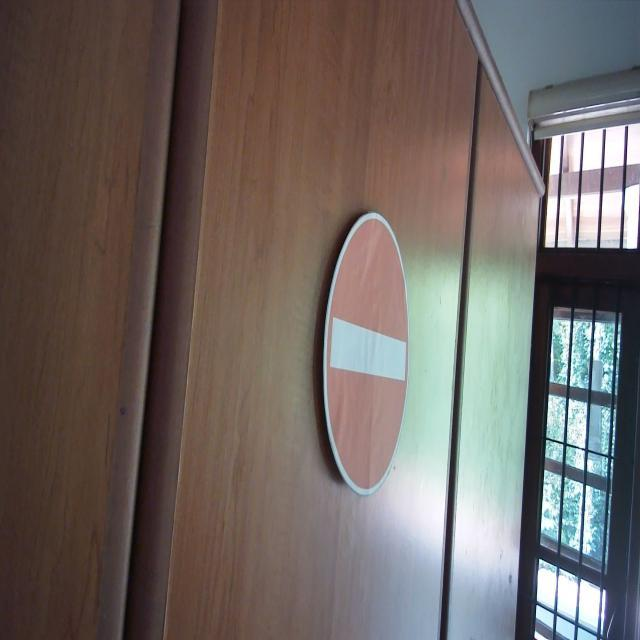no_entry: (321, 209, 412, 496)
